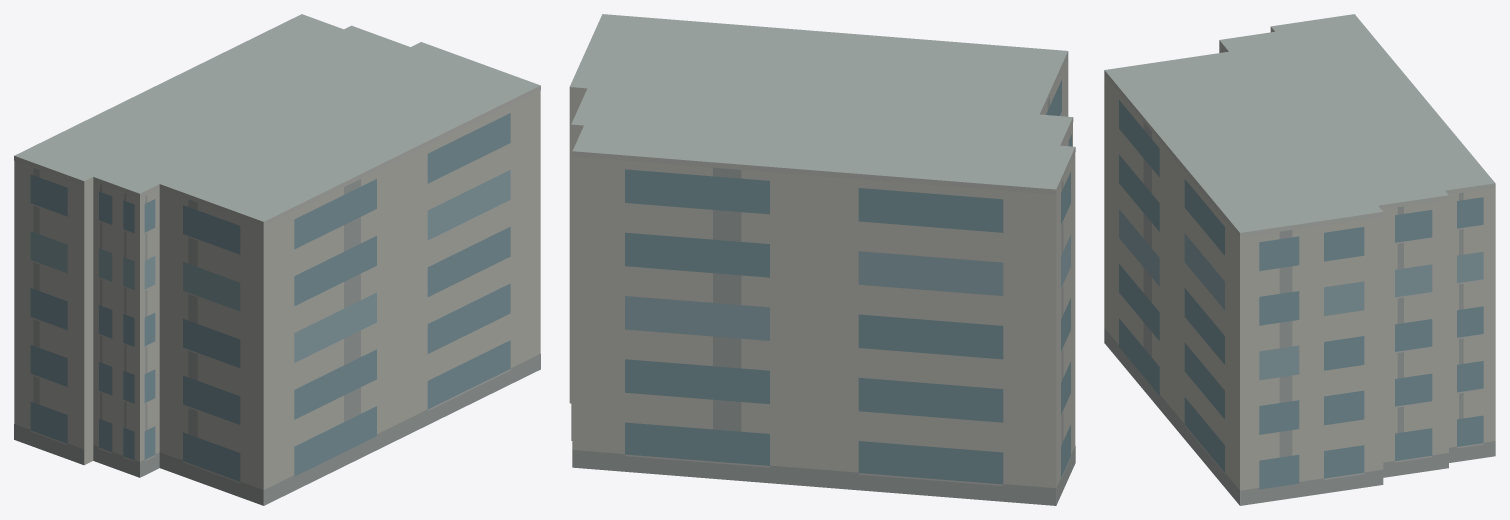
Rendered from survey-upis-32617223.glb.
The picture shows the model from 3 angles, left to right: view 1: azimuth 30°, elevation 25°; view 2: azimuth 150°, elevation 25°; view 3: azimuth 270°, elevation 25°; orthographic projection. The views are drawn at different scales.
Visible parts, largest first — view 1: survey-upis-32617223.tmp; view 2: survey-upis-32617223.tmp; view 3: survey-upis-32617223.tmp.
Part boxes in pixels (x1,y1,x2,y2): survey-upis-32617223.tmp: (14,14,540,505); survey-upis-32617223.tmp: (569,14,1075,505); survey-upis-32617223.tmp: (1104,14,1495,505).
Size of the model in its own units: 24.96 by 14.5 by 18.84.
